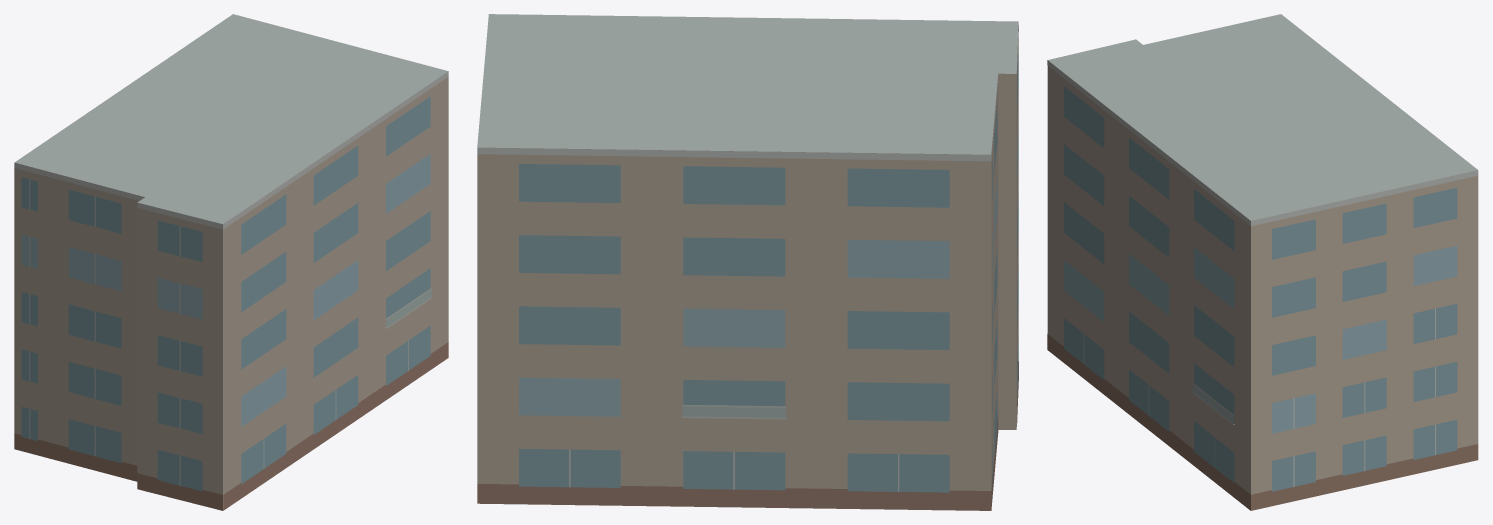
File: survey-upis-32749583.glb
3 views of the same model, side by side, from view 1: azimuth 30°, elevation 25°; view 2: azimuth 150°, elevation 25°; view 3: azimuth 270°, elevation 25° (orthographic). The views are drawn at different scales.
Parts seen in each view (by area): view 1: survey-upis-32749583.tmp; view 2: survey-upis-32749583.tmp; view 3: survey-upis-32749583.tmp.
Part boxes in pixels (<box>): survey-upis-32749583.tmp: <box>14,14,448,510</box>; survey-upis-32749583.tmp: <box>477,14,1018,510</box>; survey-upis-32749583.tmp: <box>1047,14,1478,510</box>.
Size of the model in its own units: 20.07 by 13.1 by 17.65.
